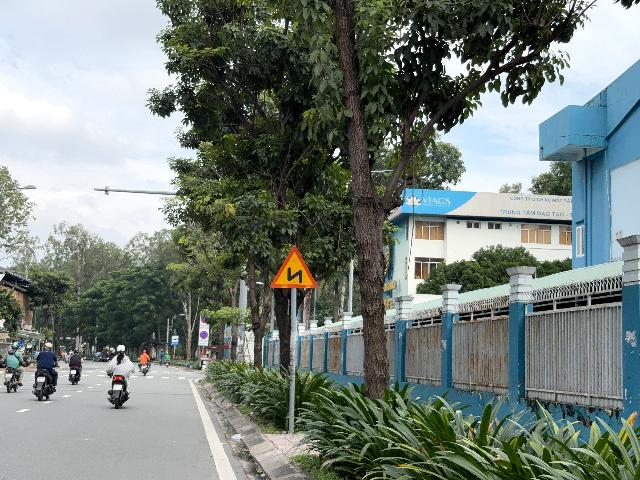nhieu-cho-ngoat-nguy-hiem-lien-tiep: (270, 245, 318, 289)
